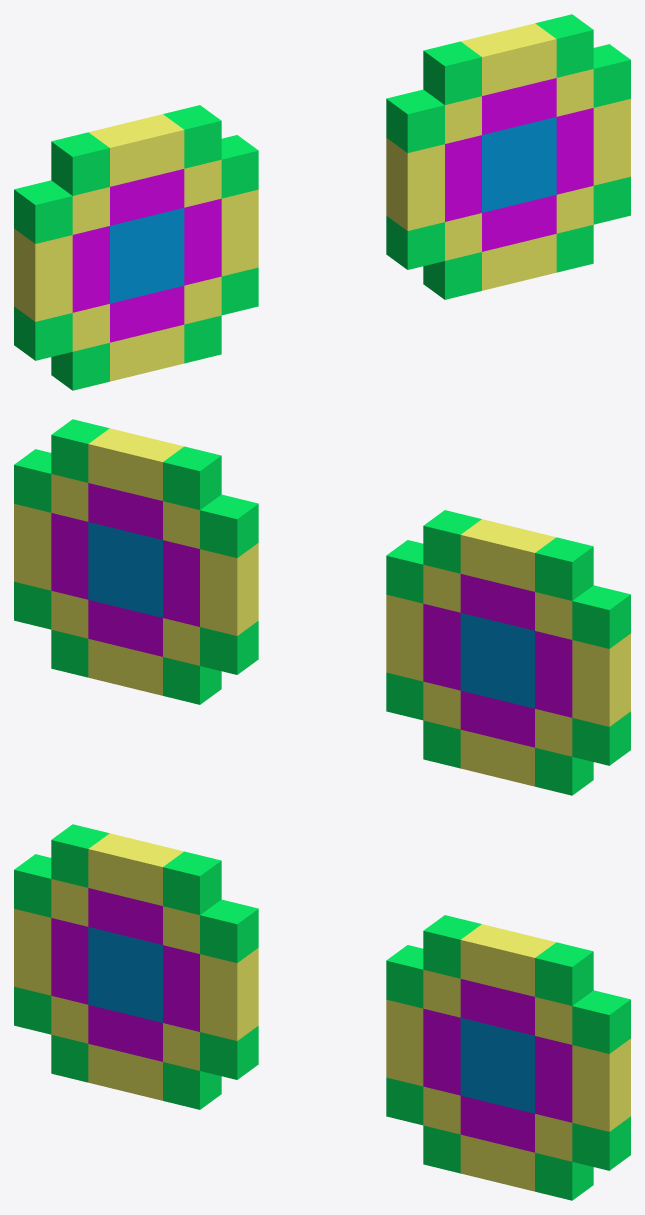
The picture shows the model from 3 angles, top to bottom: view 1: azimuth 30°, elevation 25°; view 2: azimuth 150°, elevation 25°; view 3: azimuth 330°, elevation 25°; orthographic projection.
Visible parts, largest first — view 1: 53.1; view 2: 53.1; view 3: 53.1.
Boxes of the visible parts, x1,y1,x2,y2 form: 53.1: [14, 14, 630, 390]; 53.1: [14, 419, 630, 795]; 53.1: [14, 824, 630, 1200].
Bounding box in the file's own units: 160 × 60 × 10.
Materials: 1 (1 with a texture image).
